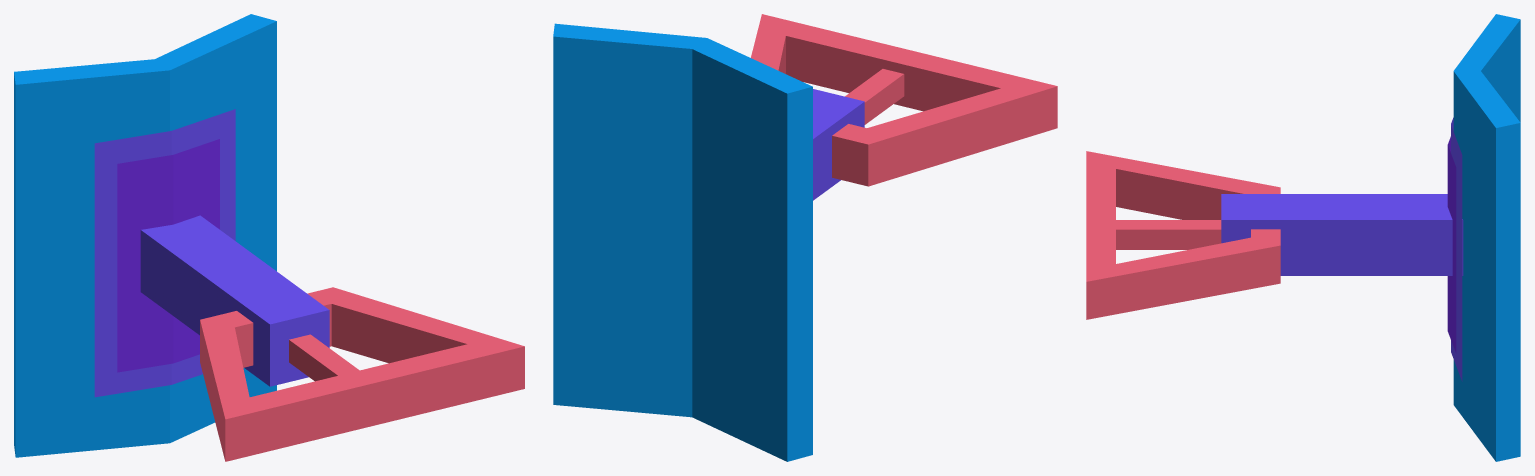
Rendered from Aircraft_027_a.fbx.
3 renders of one model, left to right at view 1: azimuth 30°, elevation 25°; view 2: azimuth 150°, elevation 25°; view 3: azimuth 270°, elevation 25°, orthographic. The views are drawn at different scales.
Parts seen in each view (by area): view 1: Aircraft_027_a; view 2: Aircraft_027_a; view 3: Aircraft_027_a.
Part boxes in pixels (<box>): Aircraft_027_a: <box>14,14,524,461</box>; Aircraft_027_a: <box>553,14,1057,461</box>; Aircraft_027_a: <box>1086,14,1520,461</box>.
Size of the model in its own units: 1.56 by 1.86 by 2.19.
